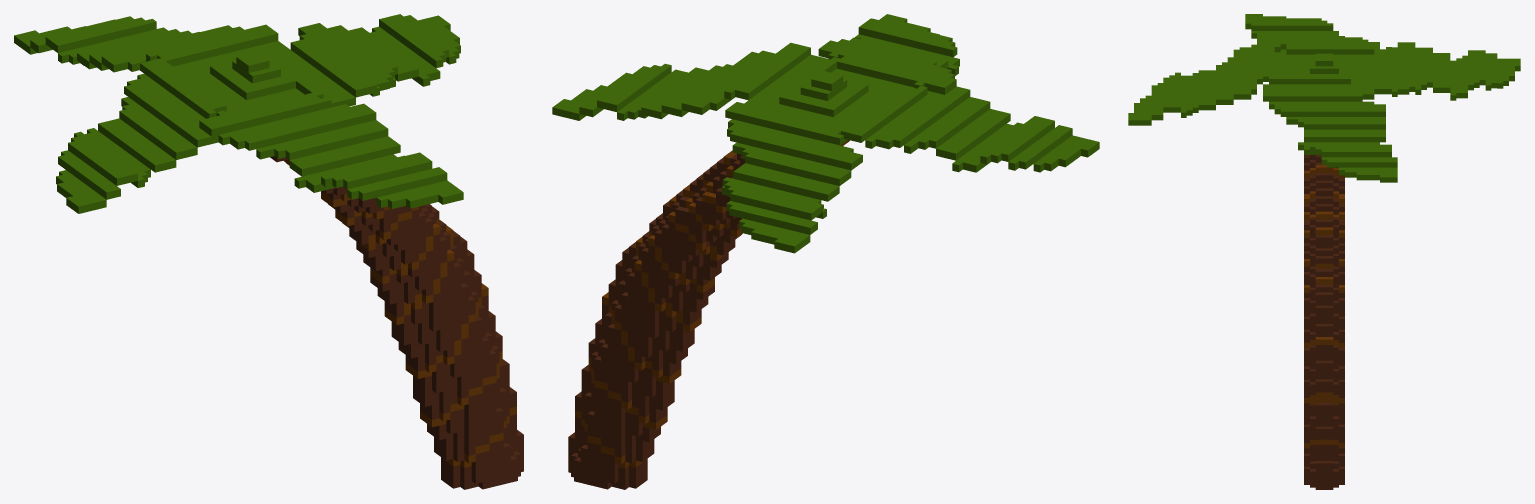
File: PALMERA 1.obj
3 renders of one model, left to right at view 1: azimuth 30°, elevation 25°; view 2: azimuth 150°, elevation 25°; view 3: azimuth 270°, elevation 25°, orthographic. The views are drawn at different scales.
Visible parts, largest first — view 1: PALMERA 1; view 2: PALMERA 1; view 3: PALMERA 1.
Boxes of the visible parts, x1,y1,x2,y2 form: PALMERA 1: (14, 14, 523, 489); PALMERA 1: (552, 14, 1099, 489); PALMERA 1: (1128, 14, 1520, 489).
Size of the model in its own units: 70 by 64 by 67.
Materials: 1 (1 with a texture image).
